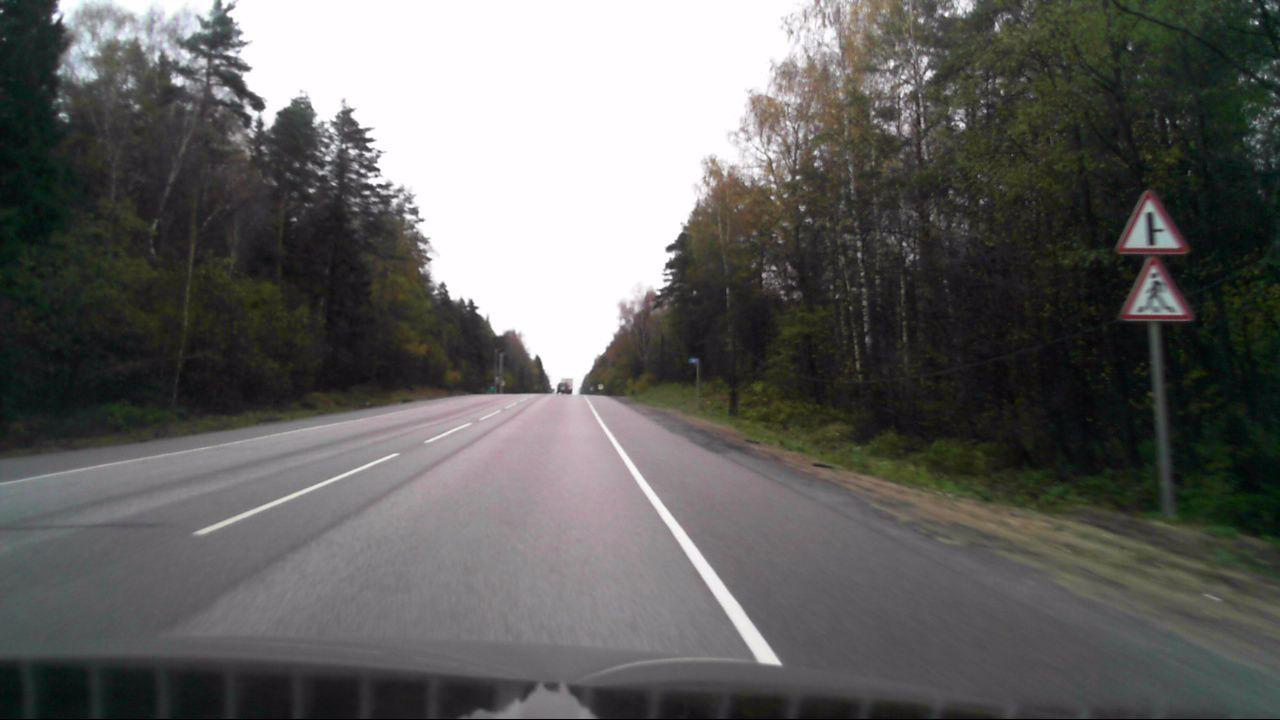1_22: (1119, 256, 1193, 321)
2_3_2: (1117, 189, 1190, 251)
